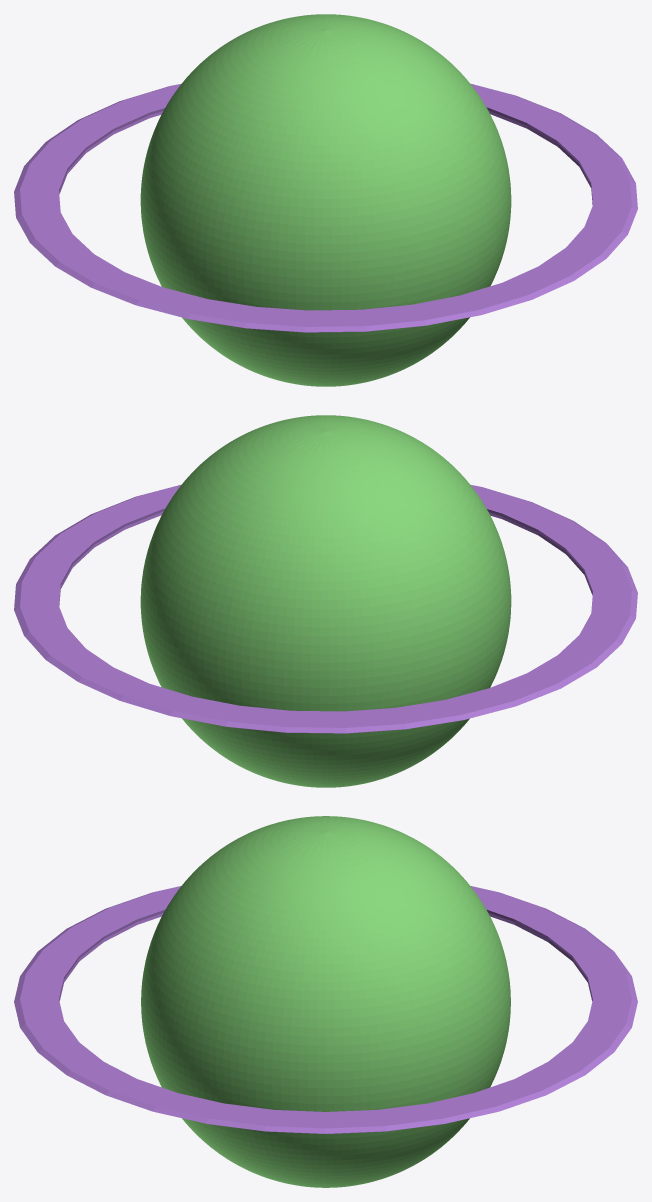
Rendered from planet2.fbx.
3 renders of one model, top to bottom at view 1: azimuth 30°, elevation 25°; view 2: azimuth 150°, elevation 25°; view 3: azimuth 270°, elevation 25°, orthographic.
Parts seen in each view (by area): view 1: Body, Ring; view 2: Body, Ring; view 3: Body, Ring.
Boxes of the visible parts, x1,y1,x2,y2 form: Body: (140, 14, 511, 386); Ring: (14, 83, 637, 332); Body: (140, 415, 511, 787); Ring: (14, 484, 637, 733); Body: (141, 816, 510, 1187); Ring: (14, 886, 637, 1133).
Size of the model in its own units: 1000 by 599 by 1000.
